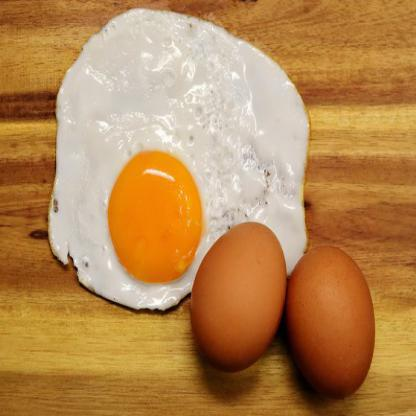egg: (272, 226, 379, 396), (190, 210, 289, 382)
